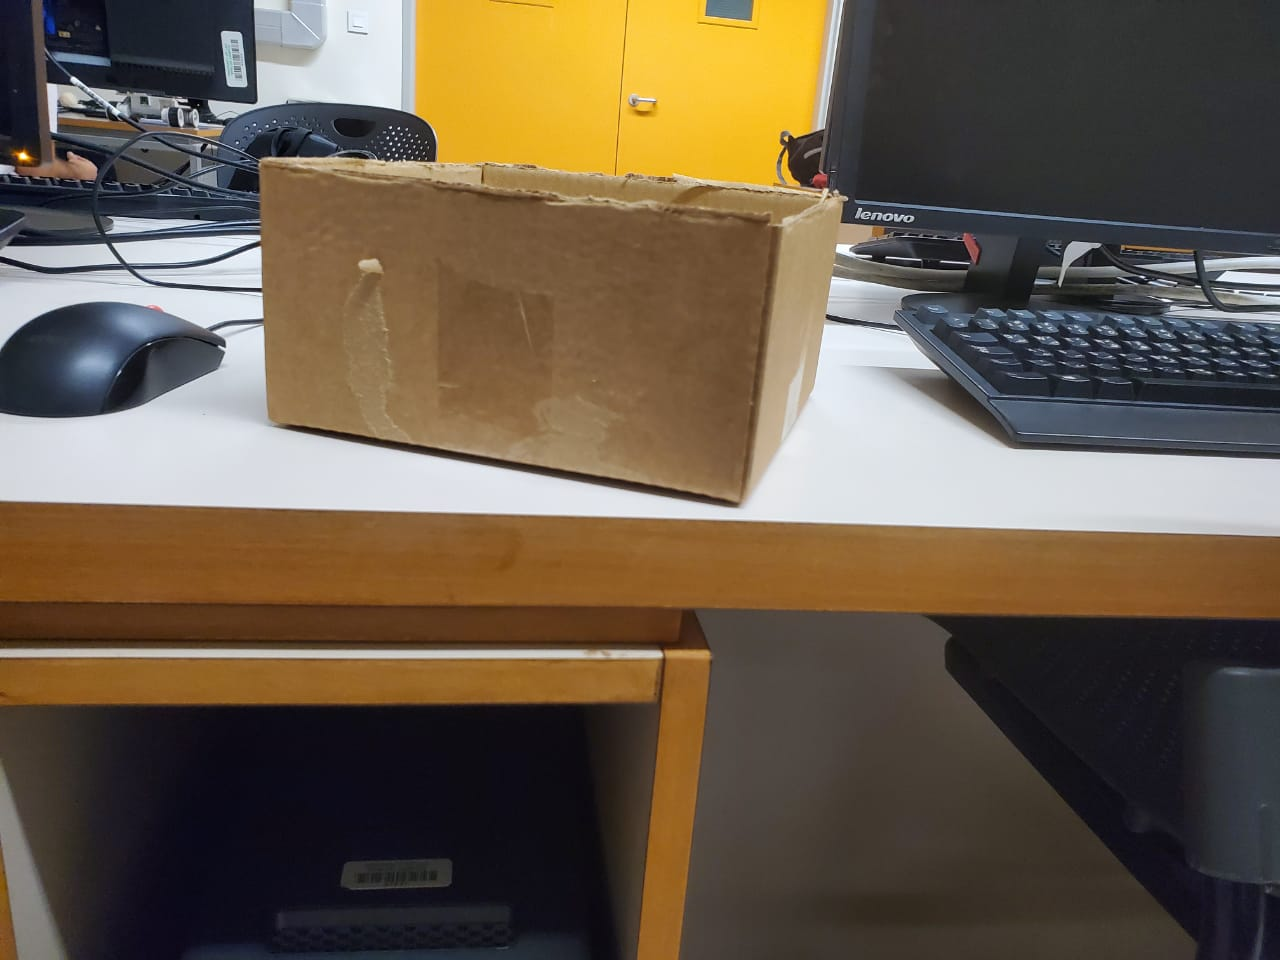CBox: (250, 144, 853, 515)
